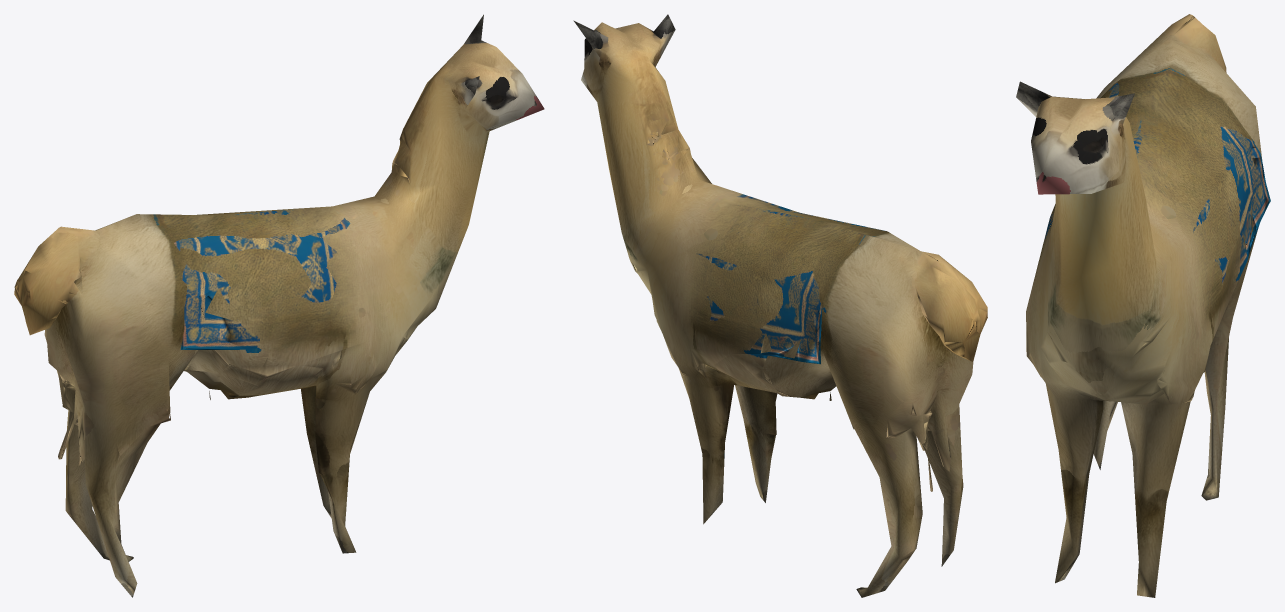
The model's file is trader_llama_white_single_1500.glb.
3 renders of one model, left to right at view 1: azimuth 30°, elevation 25°; view 2: azimuth 150°, elevation 25°; view 3: azimuth 270°, elevation 25°, orthographic. The views are drawn at different scales.
Size of the model in its own units: 0.8218 by 0.8265 by 0.3155.
Materials: 1 (1 with a texture image).
